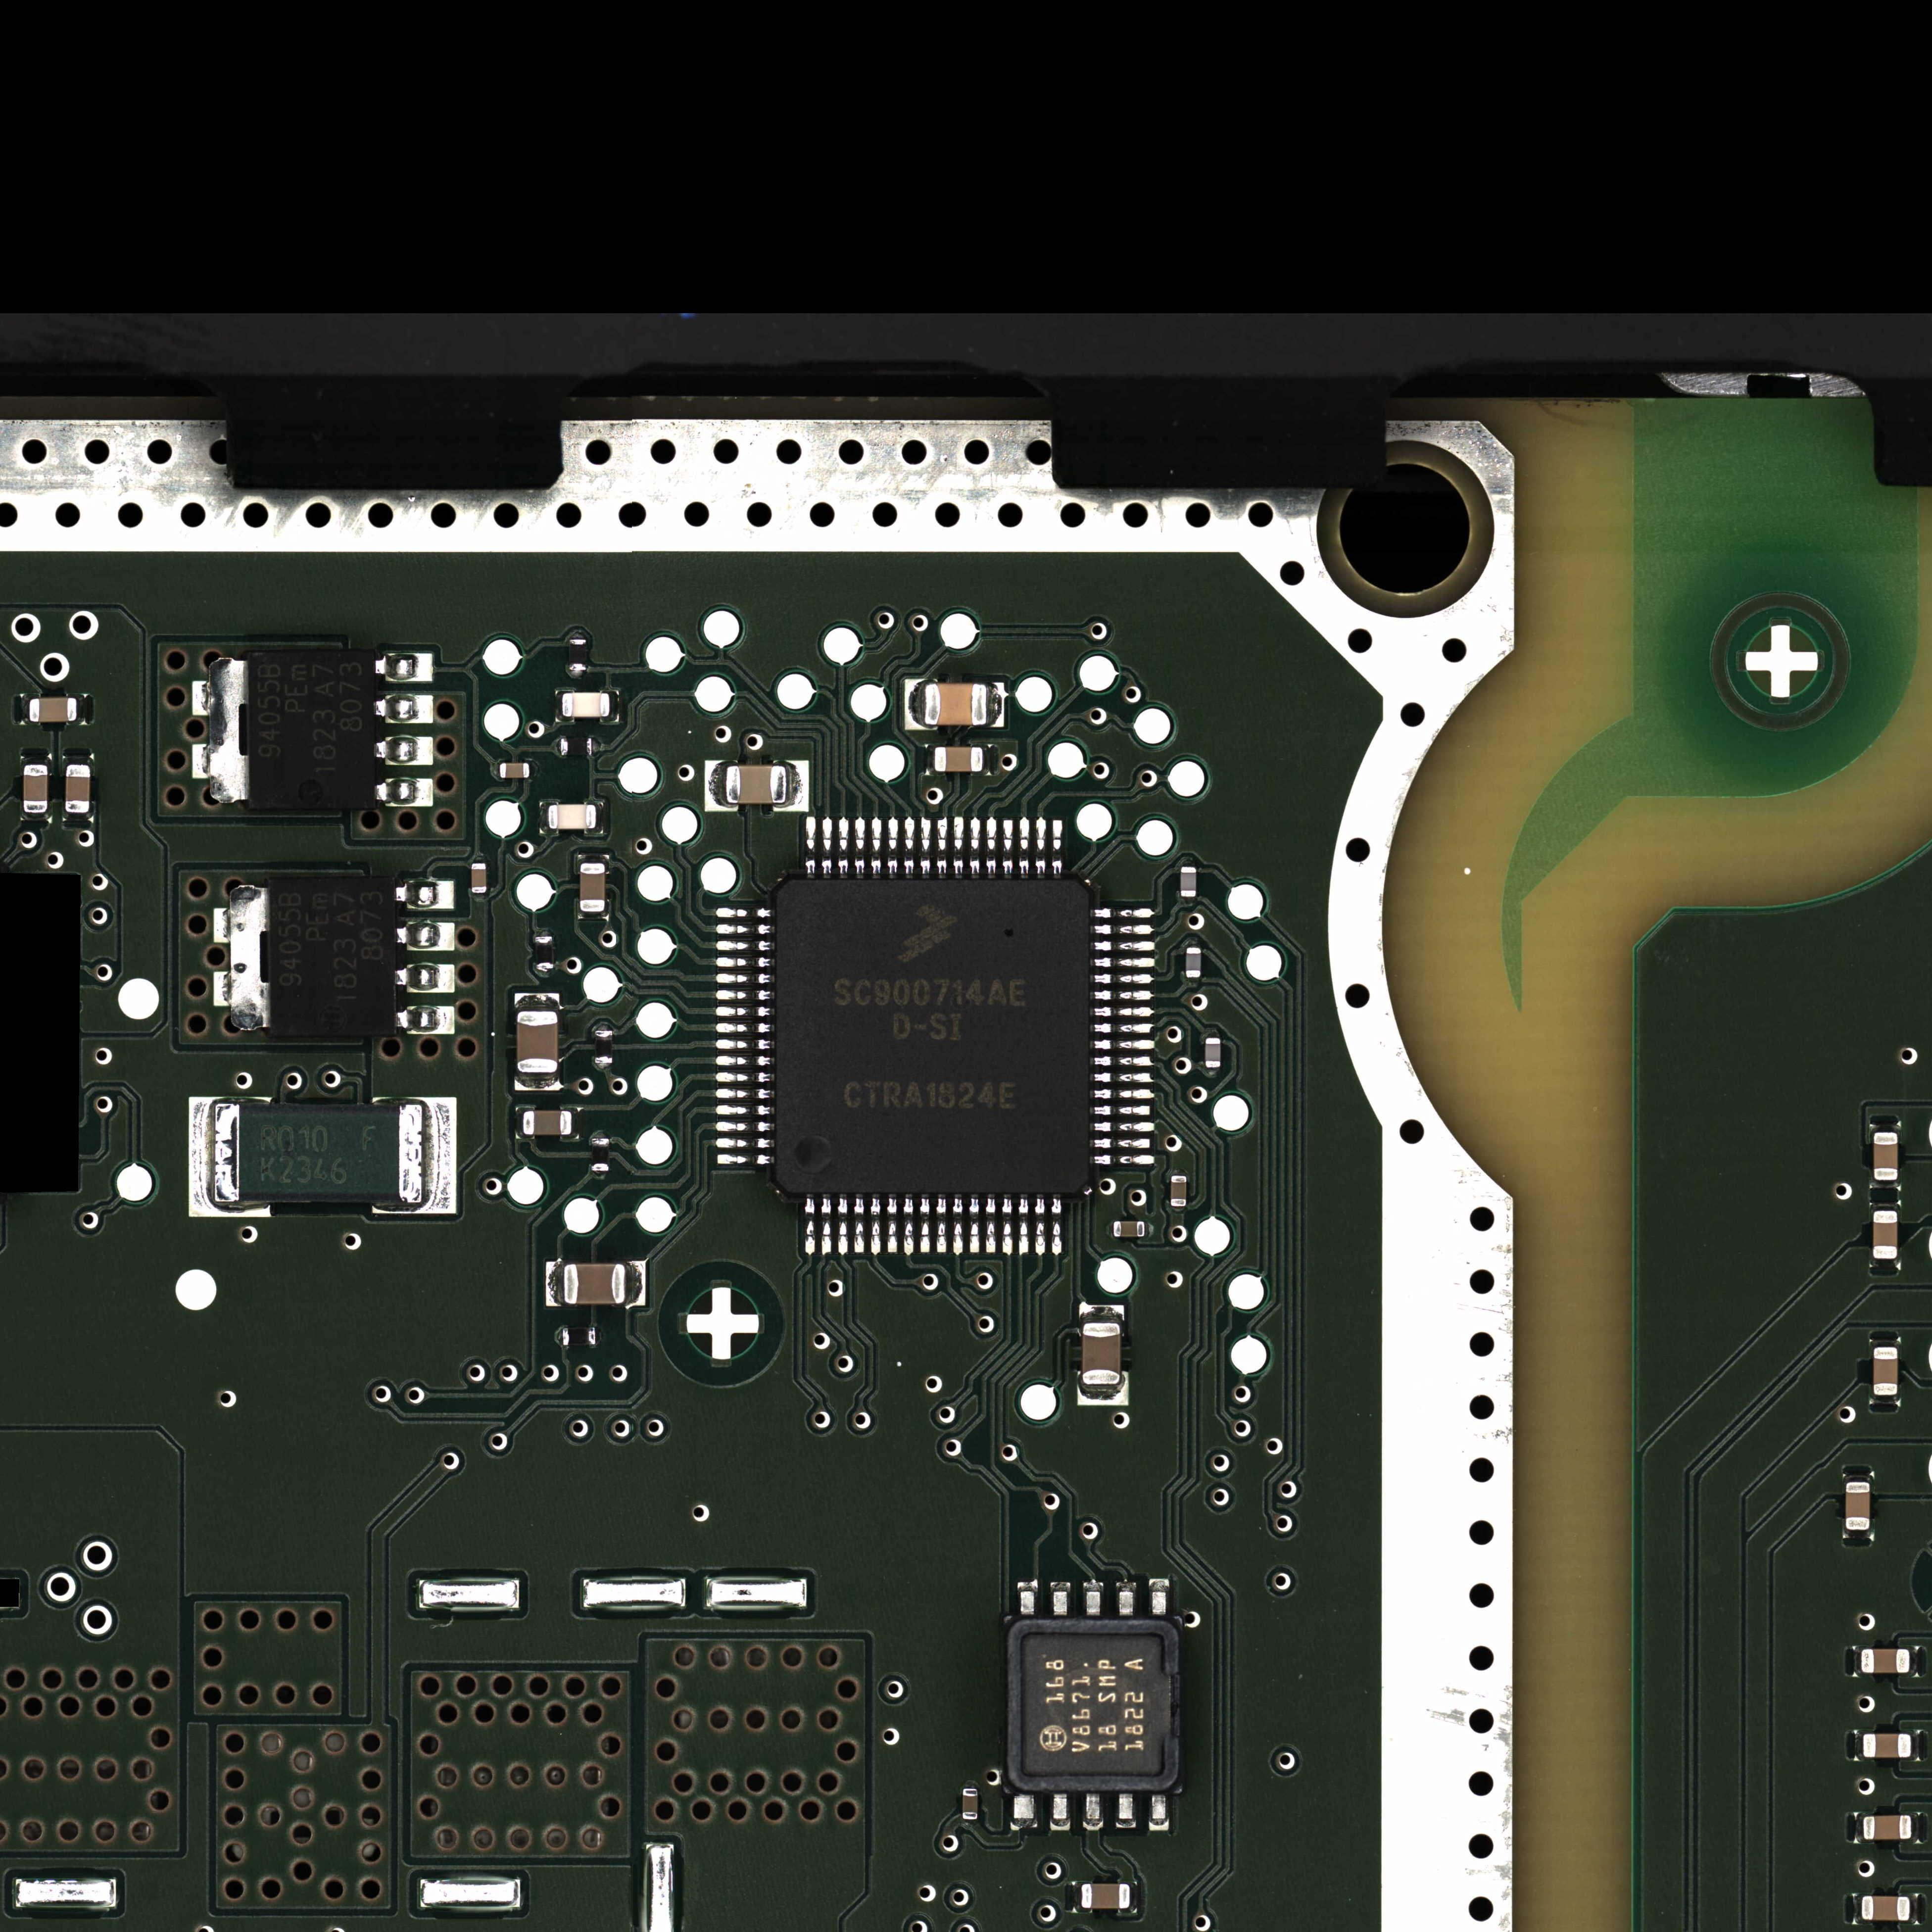Package: (773, 880, 1093, 1196), (1006, 1620, 1179, 1791), (212, 1104, 423, 1202), (248, 651, 374, 809), (270, 879, 394, 1036), (924, 683, 986, 725), (517, 1011, 557, 1072), (1081, 1322, 1121, 1384), (565, 1264, 625, 1304), (726, 765, 785, 802), (1081, 1884, 1129, 1909), (1862, 1896, 1910, 1921), (1863, 1815, 1911, 1840), (1873, 1210, 1898, 1258), (1861, 1648, 1910, 1673), (580, 864, 605, 911), (1863, 1733, 1911, 1758), (1845, 1482, 1870, 1530), (1874, 1347, 1898, 1395), (935, 747, 982, 772), (1874, 1132, 1898, 1180), (563, 692, 609, 718), (30, 697, 76, 722), (65, 765, 90, 812), (23, 765, 48, 811), (524, 1111, 571, 1135), (550, 804, 595, 829), (534, 937, 554, 969), (594, 1030, 614, 1063), (569, 638, 588, 671), (591, 1138, 609, 1170), (563, 1328, 595, 1345), (561, 738, 591, 756), (1180, 867, 1197, 896), (1170, 1176, 1187, 1206), (962, 1788, 978, 1819), (1205, 1037, 1221, 1067), (1185, 947, 1202, 977), (471, 863, 486, 893), (500, 763, 530, 778), (1114, 1221, 1144, 1237)
Solder: (423, 1099, 456, 1214), (189, 1099, 213, 1217), (394, 920, 455, 951), (395, 964, 455, 993), (374, 737, 433, 766), (395, 881, 455, 910), (374, 695, 433, 724), (396, 1006, 455, 1034), (376, 778, 434, 807), (375, 654, 433, 682), (1010, 1793, 1038, 1831), (1078, 1385, 1128, 1405), (788, 761, 808, 812), (706, 760, 724, 812), (905, 679, 923, 730), (515, 1072, 562, 1091), (1083, 1792, 1103, 1832), (1091, 907, 1154, 919), (1149, 1579, 1169, 1617), (1079, 1304, 1124, 1322), (628, 1261, 645, 1307), (1092, 957, 1154, 969), (514, 993, 560, 1010), (546, 1261, 563, 1307), (1149, 1793, 1168, 1832), (1050, 1793, 1070, 1832), (1092, 973, 1154, 985), (1092, 1039, 1153, 1051), (1093, 990, 1153, 1002), (1092, 1154, 1154, 1166), (1092, 940, 1154, 952), (1092, 923, 1153, 935), (1091, 1138, 1152, 1150), (988, 682, 1004, 727), (1050, 1581, 1071, 1616), (1017, 1581, 1038, 1615), (1083, 1581, 1104, 1615), (1116, 1581, 1137, 1616), (1093, 1006, 1153, 1018), (1093, 1022, 1153, 1034), (716, 1088, 773, 1100), (1093, 1055, 1152, 1067), (716, 923, 774, 935), (716, 1138, 774, 1150), (805, 816, 817, 876), (716, 940, 773, 952), (716, 907, 773, 919), (886, 1197, 898, 1255), (716, 973, 773, 985), (716, 1105, 773, 1116), (716, 1120, 773, 1132), (1018, 1198, 1030, 1256), (1093, 1105, 1151, 1116), (1116, 1793, 1135, 1829), (716, 1022, 773, 1034), (716, 1006, 773, 1018), (716, 989, 773, 1001), (969, 1197, 981, 1255), (1093, 1121, 1153, 1133), (953, 817, 965, 876), (821, 817, 833, 876), (717, 1154, 773, 1166), (716, 1071, 773, 1083), (716, 1055, 773, 1067), (716, 1039, 773, 1051), (1093, 1088, 1152, 1100), (920, 817, 932, 876), (904, 817, 915, 876), (937, 817, 948, 876), (887, 817, 899, 876), (855, 817, 866, 876), (871, 817, 882, 876), (838, 817, 849, 876), (970, 817, 981, 875), (1034, 1197, 1046, 1256), (1093, 1072, 1152, 1083), (716, 957, 773, 968), (903, 1197, 915, 1255), (870, 1197, 881, 1255), (821, 1197, 832, 1256), (1035, 817, 1047, 875), (986, 817, 997, 875), (1002, 1197, 1013, 1256), (1051, 1197, 1062, 1256), (854, 1197, 865, 1255), (919, 1197, 931, 1254), (1052, 818, 1063, 875), (985, 1197, 997, 1255), (936, 1197, 947, 1254), (838, 1197, 849, 1256), (953, 1197, 964, 1256), (805, 1197, 816, 1255), (1019, 817, 1030, 875), (1003, 818, 1014, 875), (192, 744, 210, 779), (213, 971, 231, 1006), (193, 680, 209, 716), (213, 908, 230, 943), (1910, 1645, 1921, 1677), (1912, 1730, 1923, 1761), (983, 745, 994, 775), (1912, 1812, 1922, 1843), (1910, 1893, 1920, 1925), (1071, 1882, 1081, 1913), (1853, 1813, 1863, 1843), (78, 694, 88, 724), (1869, 1259, 1901, 1268), (1868, 1396, 1901, 1404), (1852, 1893, 1861, 1925), (63, 754, 94, 764), (1851, 1646, 1861, 1677), (1130, 1881, 1139, 1913), (1842, 1472, 1874, 1481), (1842, 1531, 1874, 1540), (19, 694, 29, 724), (1870, 1122, 1900, 1132), (1853, 1730, 1863, 1760), (610, 690, 619, 722), (21, 754, 50, 764), (539, 802, 548, 833), (578, 854, 609, 863), (1870, 1337, 1901, 1346), (577, 912, 608, 920), (1870, 1202, 1901, 1210), (925, 745, 934, 774), (62, 813, 93, 821), (1869, 1181, 1901, 1189), (572, 1108, 580, 1138), (596, 802, 604, 833), (21, 813, 51, 821), (515, 1108, 523, 1138), (555, 691, 562, 721), (592, 737, 600, 757), (1144, 1220, 1151, 1238), (962, 1780, 979, 1787), (568, 671, 586, 677), (1204, 1067, 1222, 1074), (1204, 1030, 1222, 1037), (534, 969, 554, 975), (492, 762, 499, 778), (963, 1819, 979, 1826), (555, 738, 561, 755), (1108, 1221, 1114, 1237), (536, 929, 551, 936), (569, 632, 586, 638), (1184, 977, 1202, 983), (556, 1328, 562, 1345), (597, 1327, 603, 1344), (1180, 897, 1196, 904), (595, 1063, 611, 1069), (1170, 1170, 1187, 1175), (592, 1132, 608, 1138), (596, 1024, 612, 1030), (592, 1171, 608, 1177), (1181, 861, 1197, 867), (473, 856, 486, 863), (530, 763, 535, 777), (472, 893, 487, 899), (1186, 941, 1202, 947), (1170, 1206, 1187, 1211)
